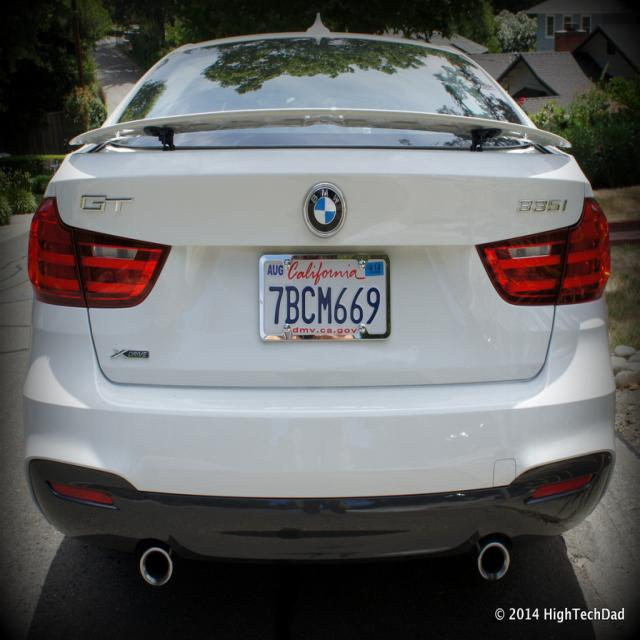car: (14, 4, 639, 631)
